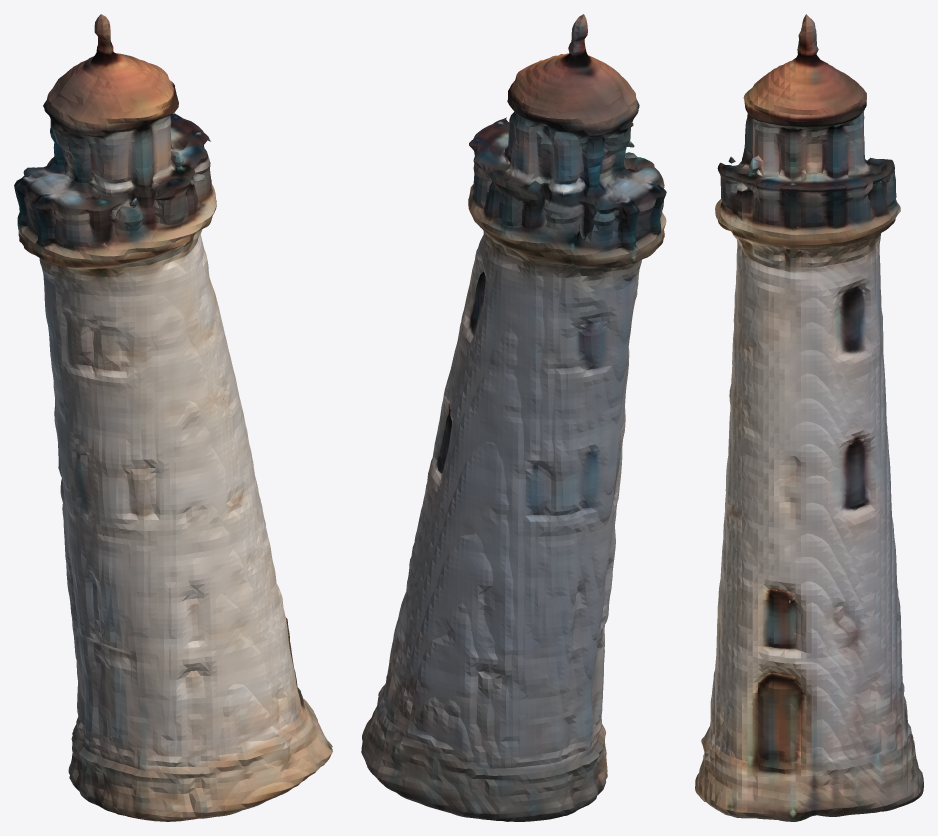
The model's file is lighthouse-generated-v1.glb.
3 views of the same model, side by side, from view 1: azimuth 30°, elevation 25°; view 2: azimuth 150°, elevation 25°; view 3: azimuth 270°, elevation 25° (orthographic). The views are drawn at different scales.
Parts seen in each view (by area): view 1: world; view 2: world; view 3: world.
Boxes of the visible parts, <box> form: world: <box>14,14,332,821</box>; world: <box>361,14,666,821</box>; world: <box>695,14,923,821</box>.
Bounding box in the file's own units: 0.3885 × 1.05 × 0.2913.
Materials: 1 (1 with a texture image).
